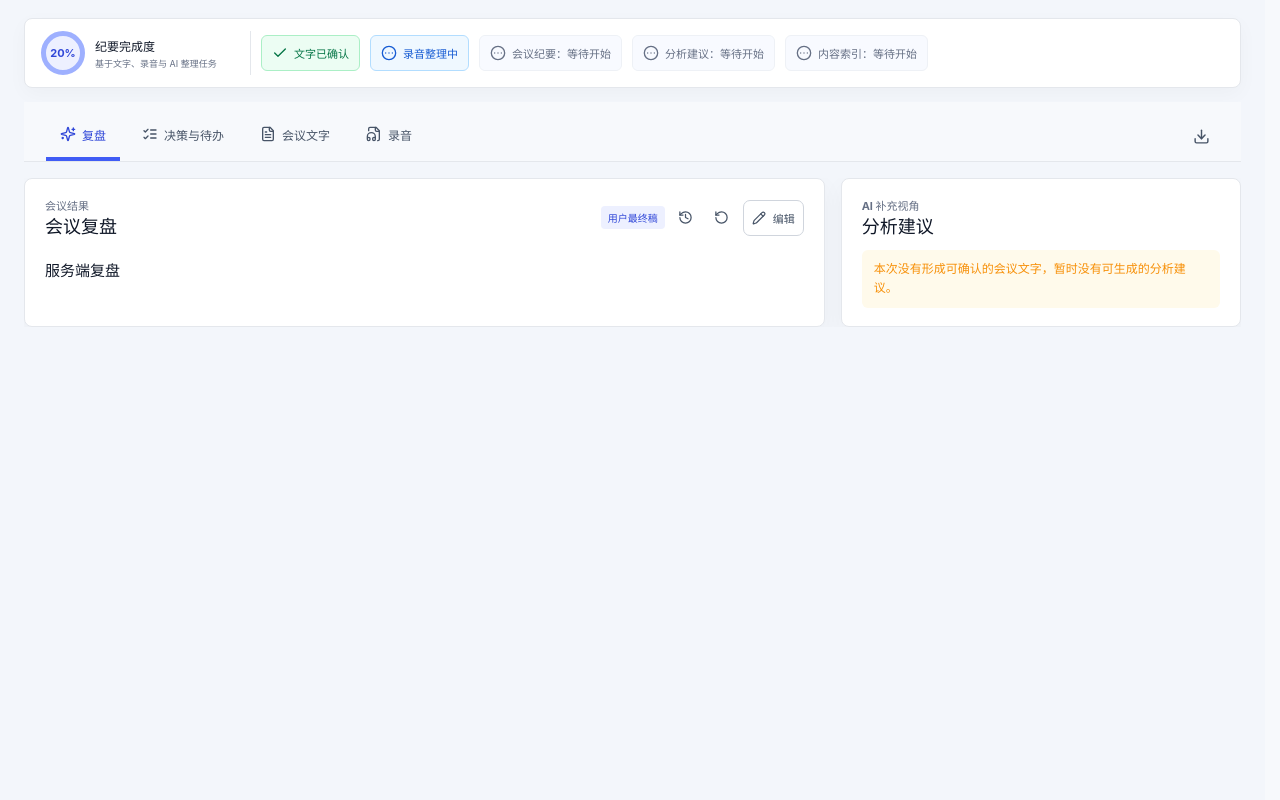
Scenario: ReviewWorkspace document editing › keeps the local draft and advances to the server revision after a 409 conflict
Click the button "编辑": x=773, y=218 [743, 200, 804, 236]
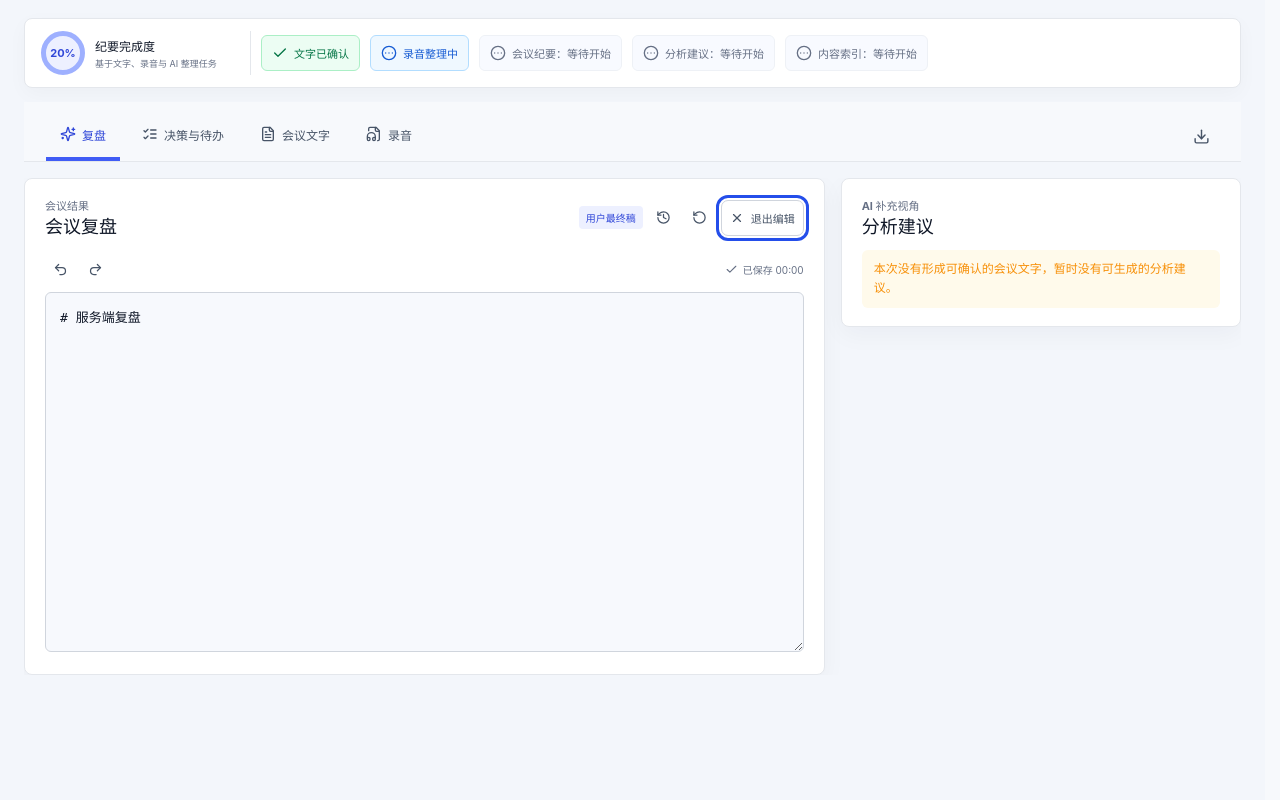
Replace the text in the text box named "编辑会议复盘" with "# 本地未保存复盘": x=424, y=472 [45, 292, 804, 652]
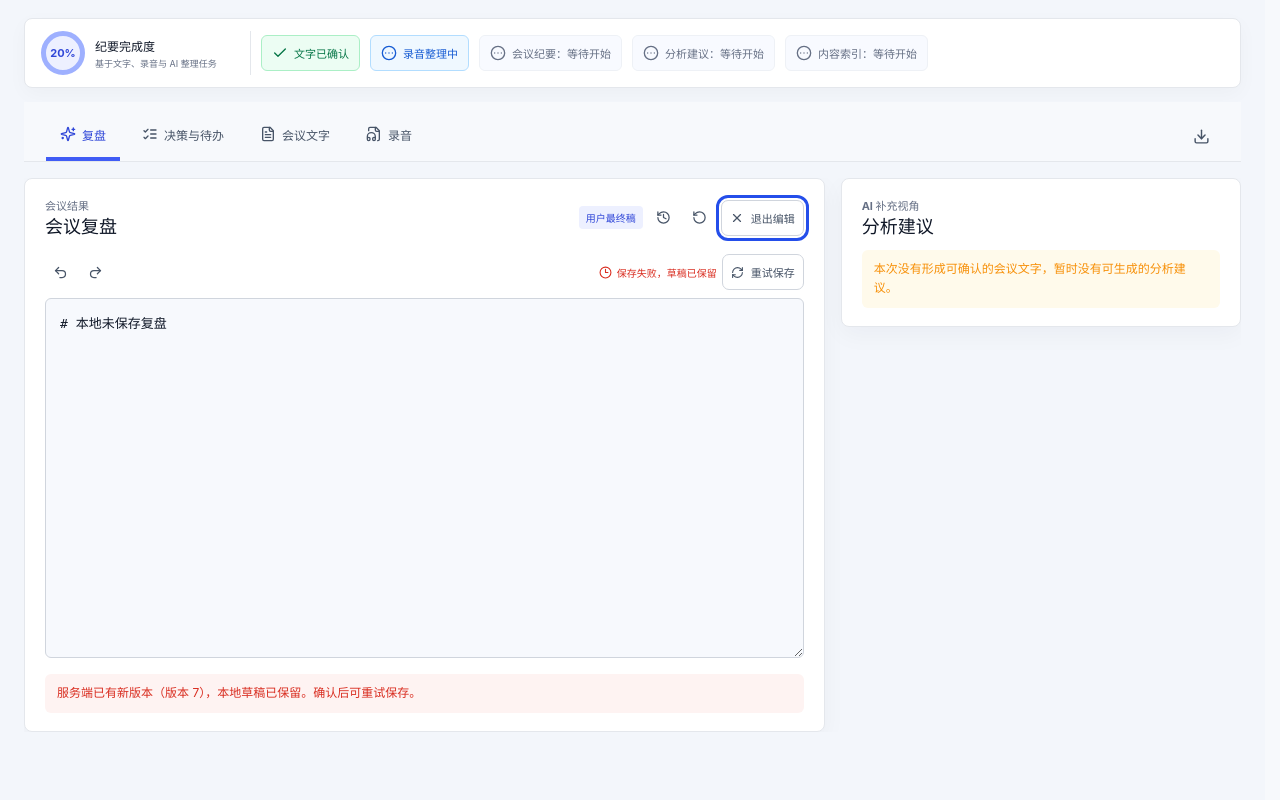
Expected: the text "服务端已有新版本（版本 7），本地草稿已保留。确认后可重试保存。" is shown, [45, 674, 804, 713]
Click the button "重试保存": x=763, y=272 [722, 254, 804, 290]
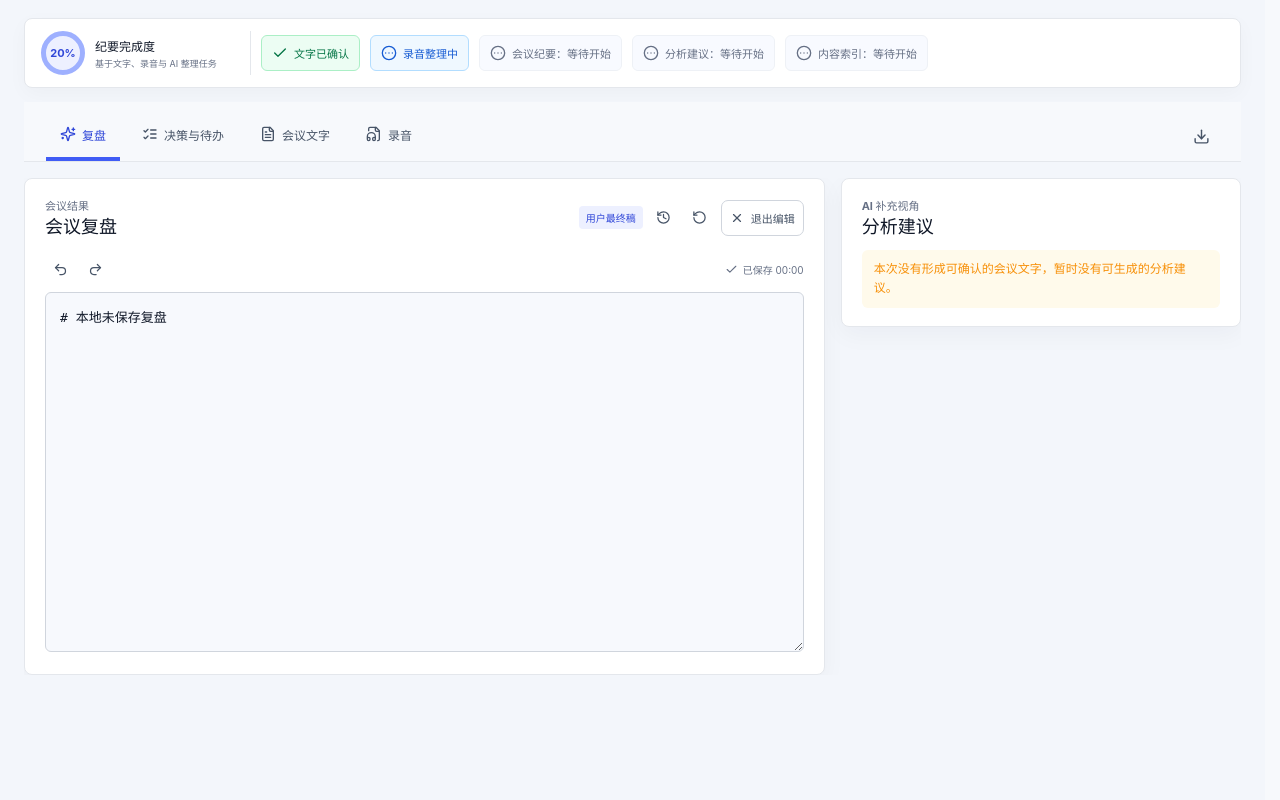
Expected: the text "已保存 00:00" is shown, [725, 262, 804, 277]
